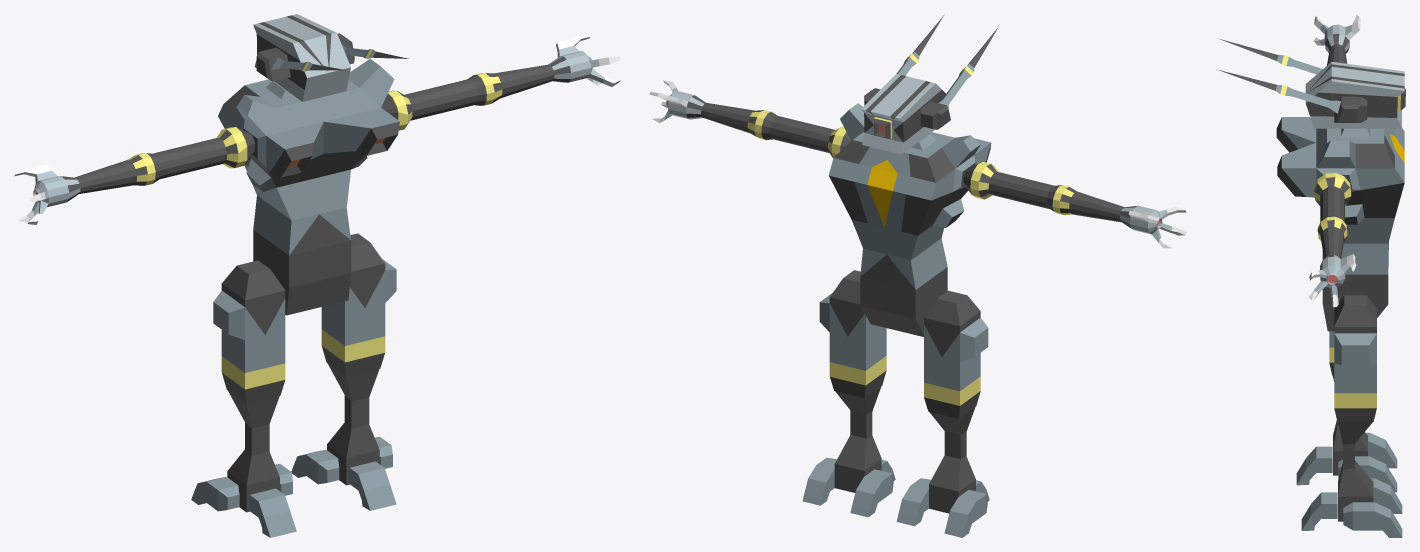
The model's file is robo.glb.
3 views of the same model, side by side, from view 1: azimuth 30°, elevation 25°; view 2: azimuth 150°, elevation 25°; view 3: azimuth 270°, elevation 25° (orthographic). The views are drawn at different scales.
Parts seen in each view (by area): view 1: group357911487, group1857396217, group652147933, group132136850, group263005636, group1686849329, group1605476467, group1991749033; view 2: group357911487, group1857396217, group652147933, group132136850, group263005636, group1686849329, group1605476467, group1991749033; view 3: group357911487, group652147933, group1686849329, group263005636, group1857396217, group1605476467, group51567344, group132136850, group1991749033.
Part boxes in pixels (x1,y1,x2,y2): group357911487: (218,59,399,255); group1857396217: (191,260,296,537); group652147933: (291,233,396,510); group132136850: (14,127,254,224); group263005636: (381,36,620,130); group1686849329: (253,14,350,101); group1605476467: (253,230,351,315); group1991749033: (256,47,345,81); group357911487: (828,103,991,289); group1857396217: (896,290,989,537); group652147933: (802,270,895,517); group132136850: (963,161,1186,248); group263005636: (649,80,850,158); group1686849329: (861,74,945,154); group1605476467: (860,267,947,336); group1991749033: (920,26,998,129); group357911487: (1276,117,1404,274); group652147933: (1301,295,1402,537); group1686849329: (1305,62,1404,128); group263005636: (1309,173,1356,307); group1857396217: (1296,331,1397,492); group1605476467: (1322,274,1388,331); group51567344: (1216,69,1367,122); group132136850: (1314,14,1360,65); group1991749033: (1219,39,1322,74).
Size of the model in its own units: 3.8 by 3.03 by 1.16.
